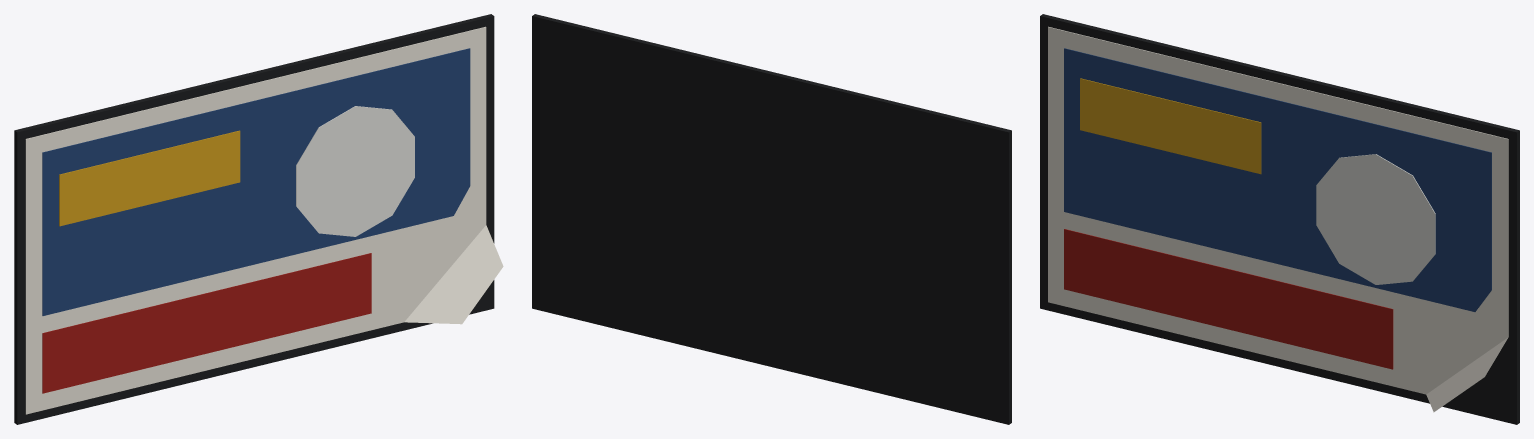
The model's file is billboard_peeling.glb.
The picture shows the model from 3 angles, left to right: view 1: azimuth 30°, elevation 25°; view 2: azimuth 150°, elevation 25°; view 3: azimuth 330°, elevation 25°; orthographic projection.
Parts seen in each view (by area): view 1: billboard_peeling; view 2: billboard_peeling; view 3: billboard_peeling.
Boxes of the visible parts, x1,y1,x2,y2 form: billboard_peeling: (14,14,503,424); billboard_peeling: (532,14,1011,424); billboard_peeling: (1040,14,1519,424).
Bounding box in the file's own units: 2.9 × 1.7 × 0.3.
Materials: 1 (1 with a texture image).
